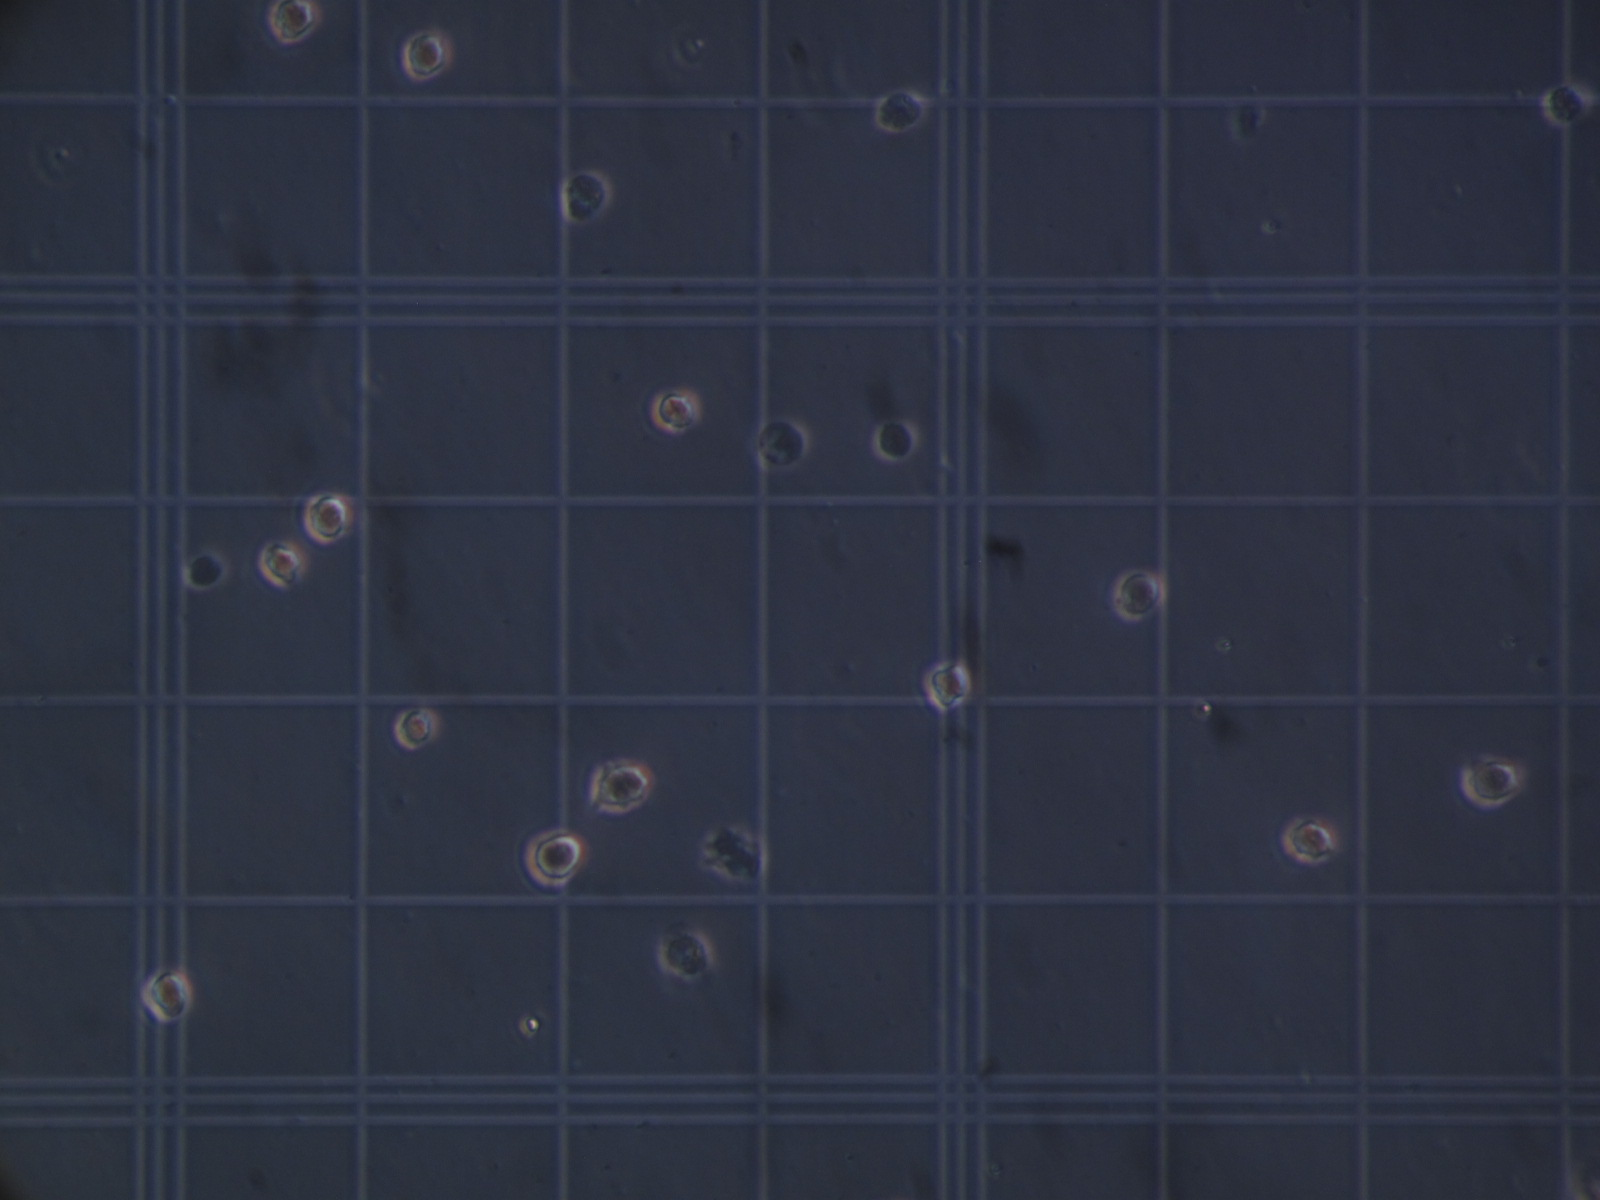hemo: (525, 829, 585, 887), (591, 761, 651, 816), (1115, 567, 1169, 623), (1461, 754, 1518, 805), (141, 969, 193, 1025), (658, 929, 713, 981), (561, 170, 611, 224), (1283, 816, 1335, 863), (756, 418, 808, 466), (404, 32, 454, 81), (304, 492, 349, 545), (653, 388, 702, 435), (876, 87, 927, 131), (268, 1, 323, 43), (926, 661, 971, 708), (1546, 78, 1589, 129), (260, 541, 305, 586), (874, 418, 917, 463), (396, 707, 437, 749)
